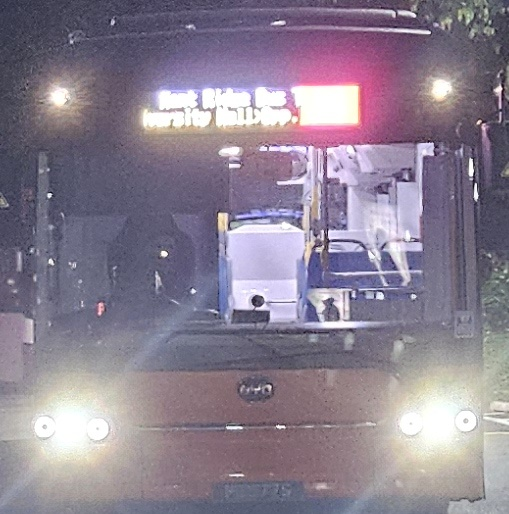bus: (295, 83, 364, 125)
